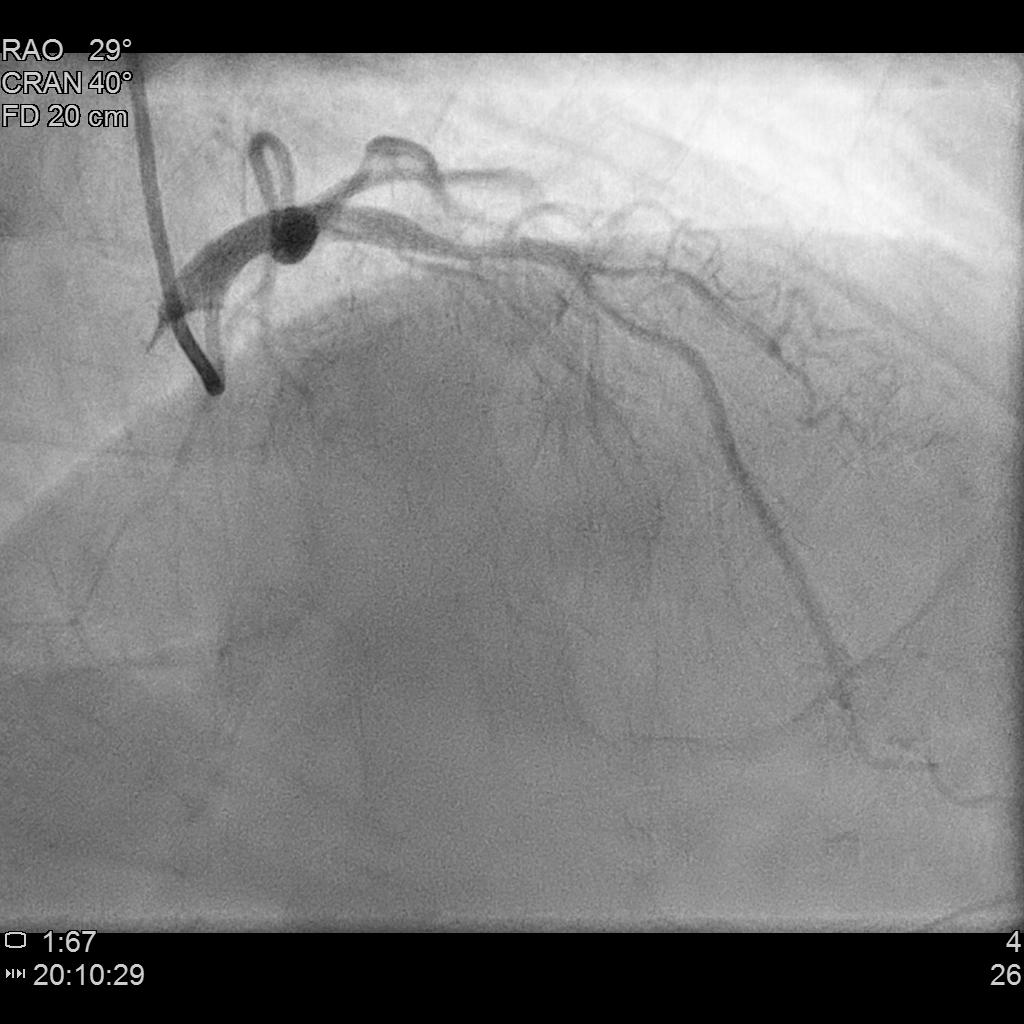block: (407, 217, 533, 275)
